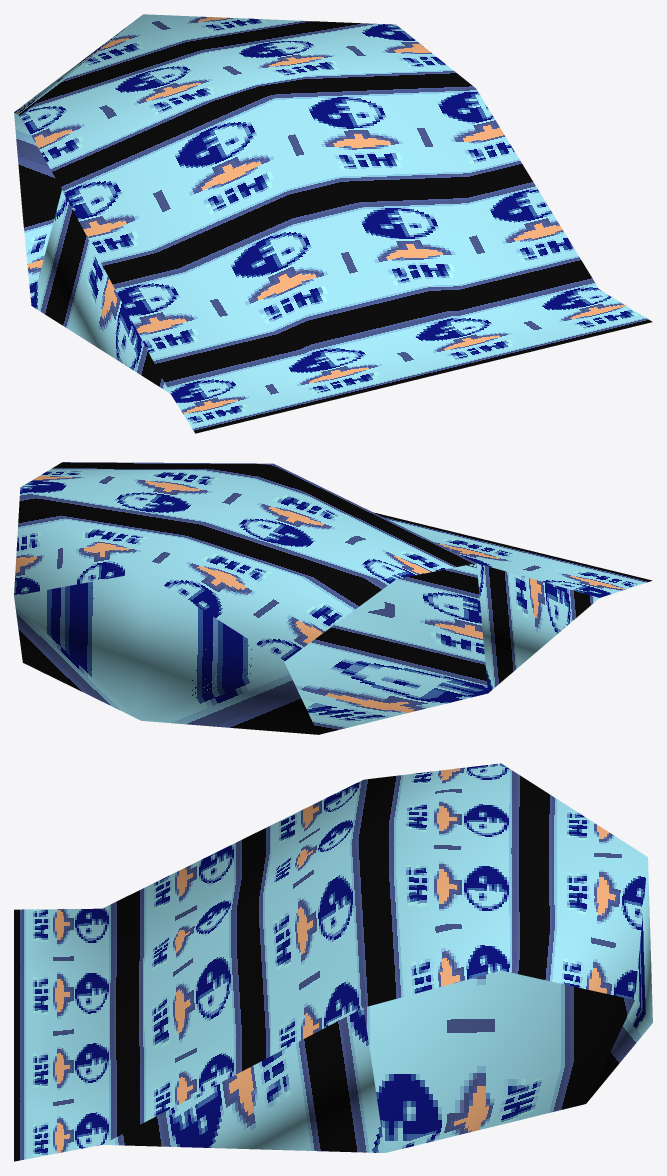
Rendered from 1825top000_c.gltf.
The picture shows the model from 3 angles, top to bottom: view 1: azimuth 30°, elevation 25°; view 2: azimuth 150°, elevation 25°; view 3: azimuth 270°, elevation 25°; orthographic projection. The views are drawn at different scales.
Parts seen in each view (by area): view 1: 1825top000_c; view 2: 1825top000_c; view 3: 1825top000_c.
Boxes of the visible parts, x1,y1,x2,y2 form: 1825top000_c: [14, 14, 652, 433]; 1825top000_c: [14, 462, 652, 734]; 1825top000_c: [14, 763, 652, 1161].
Bounding box in the file's own units: 0.7598 × 0.2717 × 0.814.
Materials: 1 (1 with a texture image).
